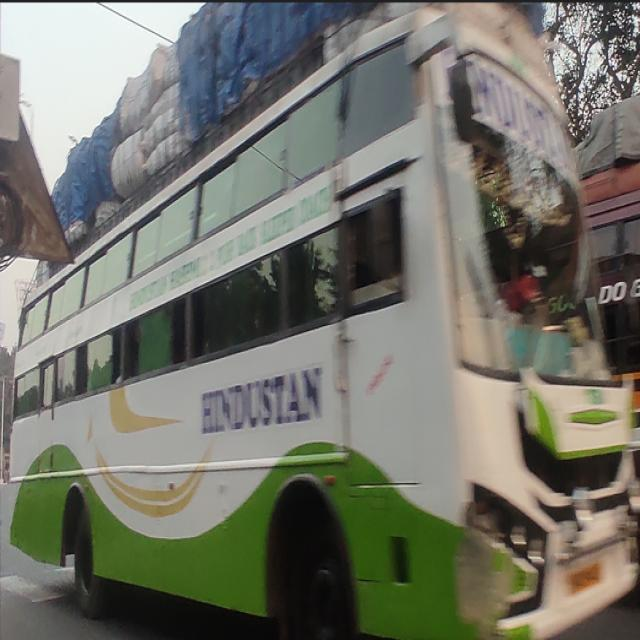bus: (13, 7, 640, 640)
